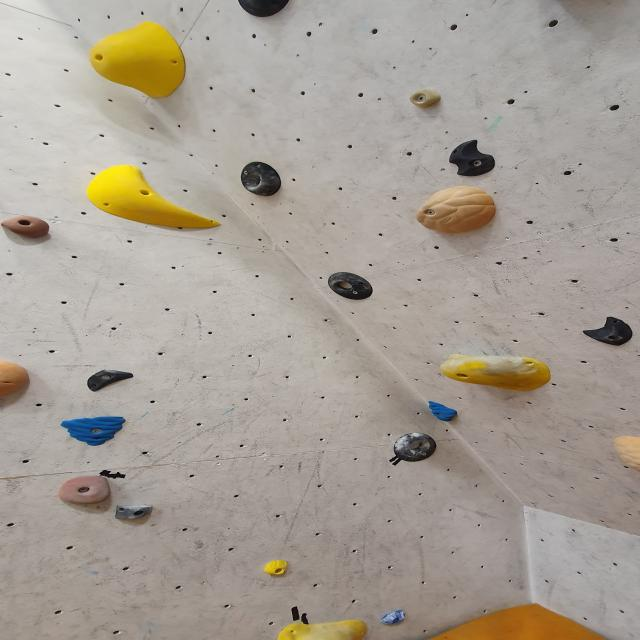Crimp: (59, 417, 127, 444), (85, 370, 136, 392), (429, 403, 460, 423), (380, 610, 412, 627)
Jug: (58, 476, 115, 506), (0, 216, 52, 240)
Pinch: (410, 90, 444, 112), (116, 502, 157, 520)
Pocket: (384, 430, 444, 463), (320, 272, 376, 302), (238, 163, 284, 199), (232, 0, 296, 20)
Sloper: (85, 168, 224, 234), (88, 21, 189, 103), (412, 185, 497, 238), (436, 354, 553, 392), (577, 315, 640, 349), (446, 141, 500, 179), (274, 620, 370, 640), (0, 360, 34, 409), (613, 436, 640, 476), (264, 560, 291, 578)
